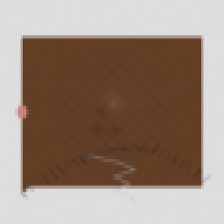foreign_body_visible: (41, 103, 70, 126)
